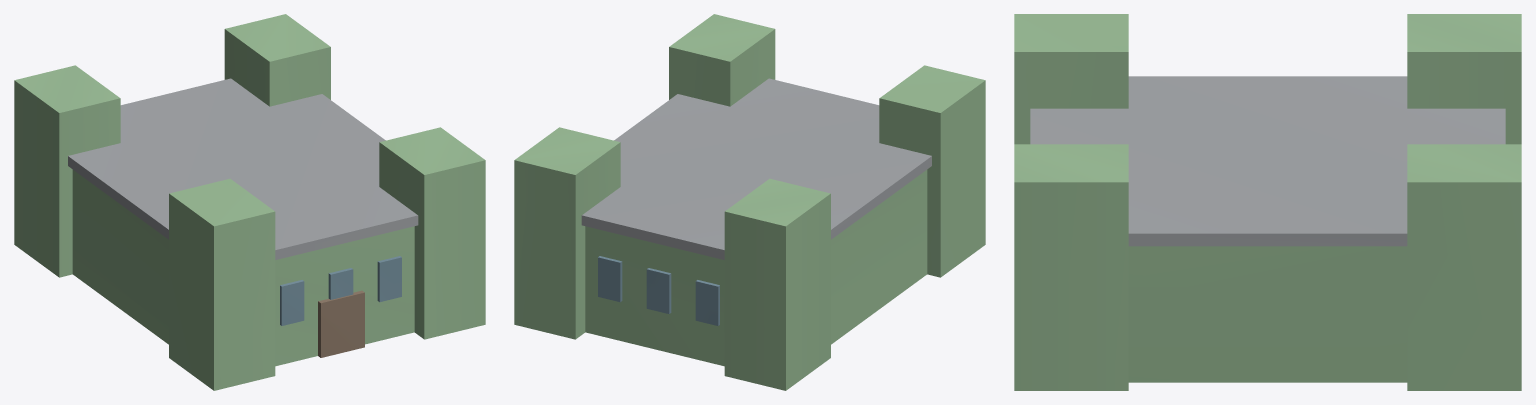
Rendered from fort-01.glb.
3 renders of one model, left to right at view 1: azimuth 30°, elevation 25°; view 2: azimuth 150°, elevation 25°; view 3: azimuth 270°, elevation 25°, orthographic. The views are drawn at different scales.
Parts seen in each view (by area): view 1: world; view 2: world; view 3: world.
Boxes of the visible parts, left/top/right/bottom form: world: left=14, top=14, right=485, bottom=390; world: left=514, top=14, right=985, bottom=390; world: left=1014, top=14, right=1521, bottom=390.
Bounding box in the file's own units: 1.99 × 1.15 × 2.54.
